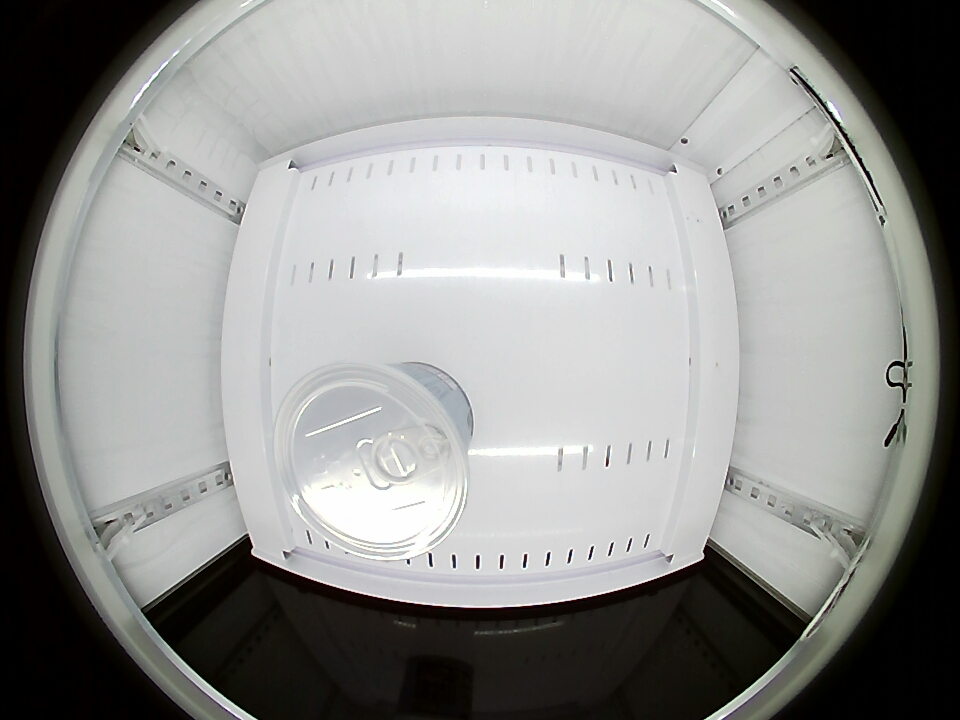haitai: (273, 360, 474, 563)
